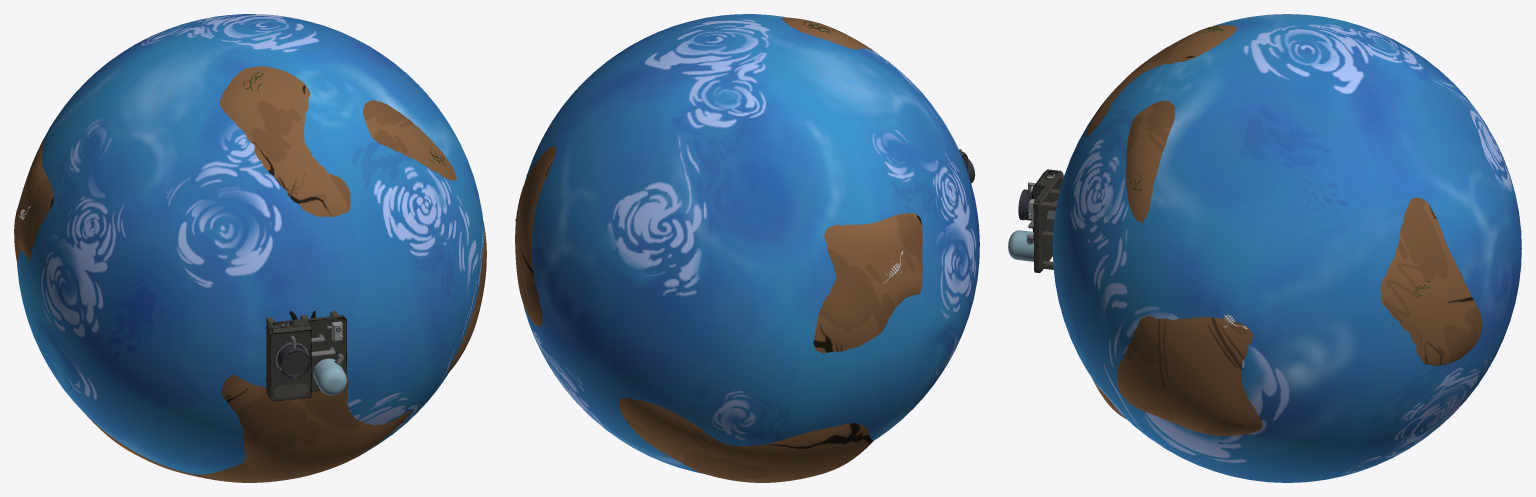
The model's file is planet_ocean_iteration_2.gltf.
3 renders of one model, left to right at view 1: azimuth 30°, elevation 25°; view 2: azimuth 150°, elevation 25°; view 3: azimuth 270°, elevation 25°, orthographic.
Visible parts, largest first — view 1: planet_ocean_iteration_2; view 2: planet_ocean_iteration_2; view 3: planet_ocean_iteration_2.
Part boxes in pixels (left/top/right/bottom): planet_ocean_iteration_2: left=14, top=14, right=486, bottom=482; planet_ocean_iteration_2: left=515, top=14, right=979, bottom=482; planet_ocean_iteration_2: left=1008, top=14, right=1521, bottom=482.
Size of the model in its own units: 12.95 by 12.95 by 14.18.
7 materials, 7 textured.
